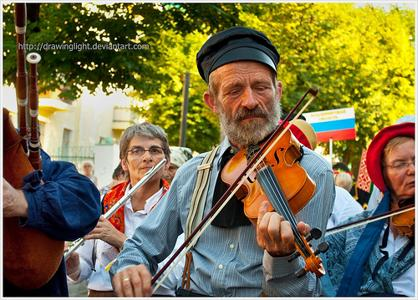person: (112, 29, 337, 297)
